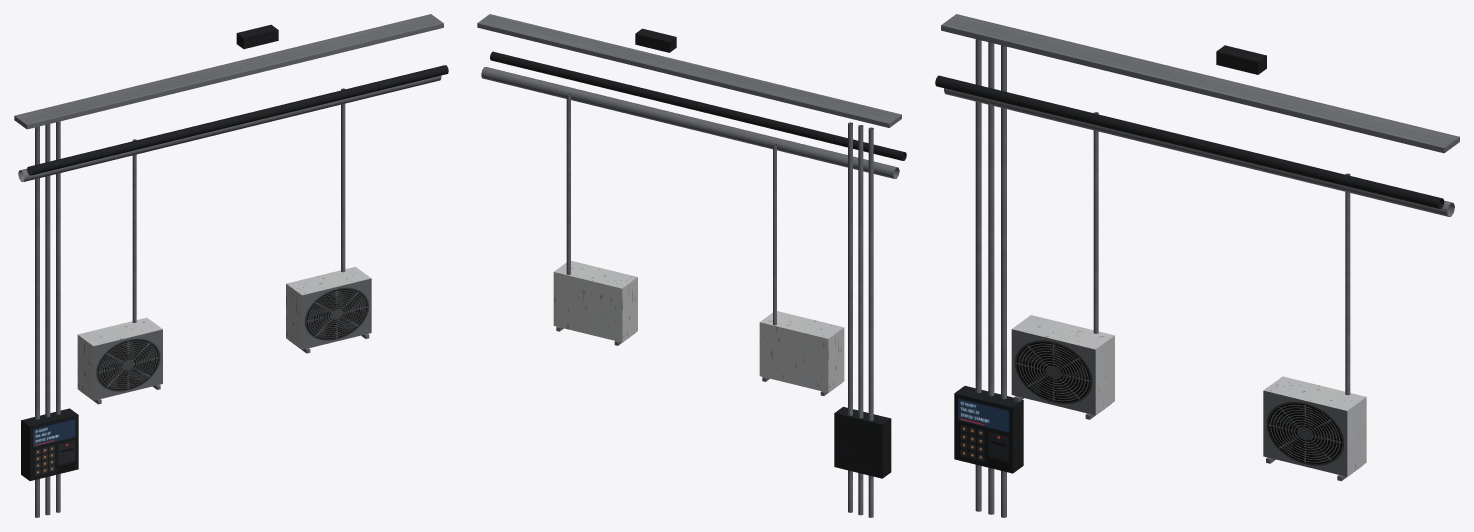
File: SM_INFD_WallUtilityKit.fbx
The picture shows the model from 3 angles, left to right: view 1: azimuth 30°, elevation 25°; view 2: azimuth 150°, elevation 25°; view 3: azimuth 330°, elevation 25°; orthographic projection. The views are drawn at different scales.
Parts seen in each view (by area): view 1: SM_INFD_WallUtilityKit_LOD0; view 2: SM_INFD_WallUtilityKit_LOD0; view 3: SM_INFD_WallUtilityKit_LOD0.
Part boxes in pixels (bbox=[...]): SM_INFD_WallUtilityKit_LOD0: bbox=[14, 14, 448, 517]; SM_INFD_WallUtilityKit_LOD0: bbox=[477, 14, 906, 517]; SM_INFD_WallUtilityKit_LOD0: bbox=[935, 14, 1459, 517].
Size of what is drawn, in the model's own units: 6 by 5.95 by 0.45.
